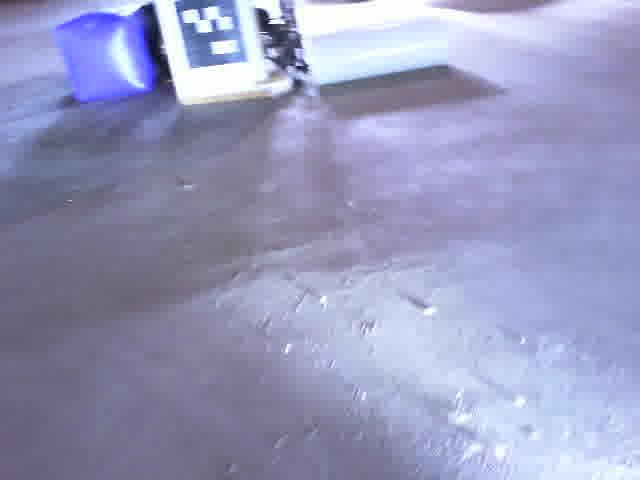coral: (310, 16, 448, 79)
